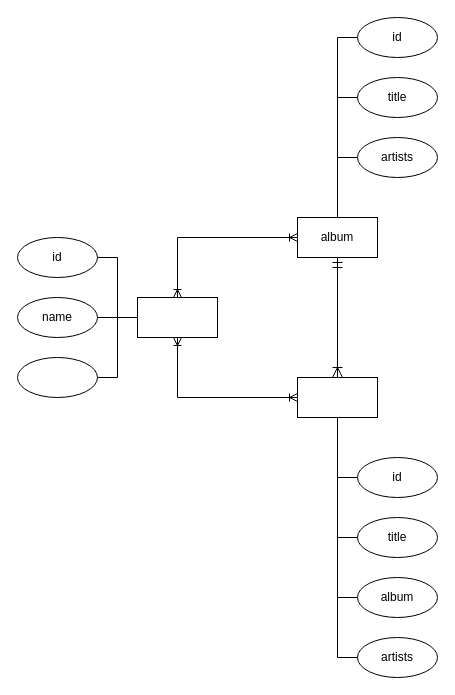
The diagram is 455 pixels wide and 695 high, and some of its shapes have lost their labels. The box of each missing label's shape, as (x1, y1, x2, y2) in pixels:
artist: (136, 296, 218, 338)
bio: (16, 356, 98, 398)
track: (296, 376, 378, 418)
